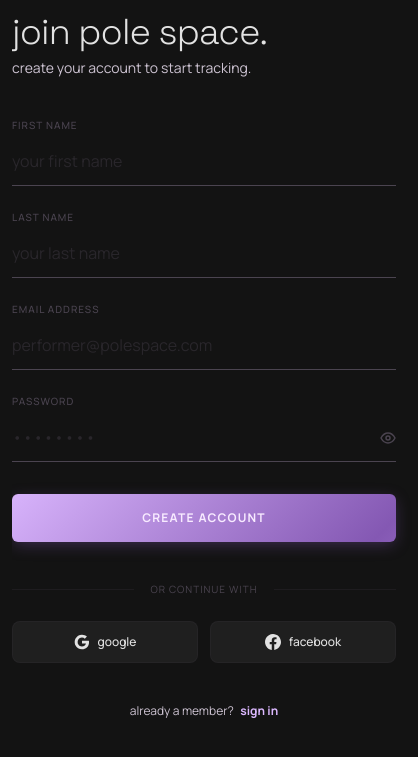
Test: SignupForm › shows validation error for short password on submit
This screenshot has width=418, height=757.
In the field labelled "first name": (204, 162) [12, 137, 396, 186], type "Alice"
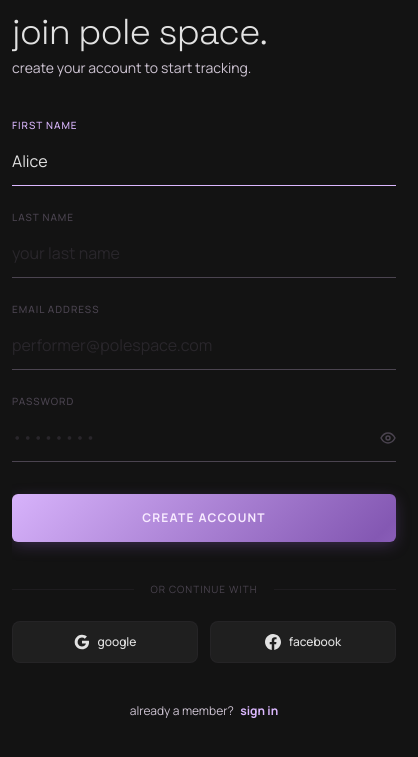
In the field labelled "last name": (204, 254) [12, 229, 396, 278], type "Smith"
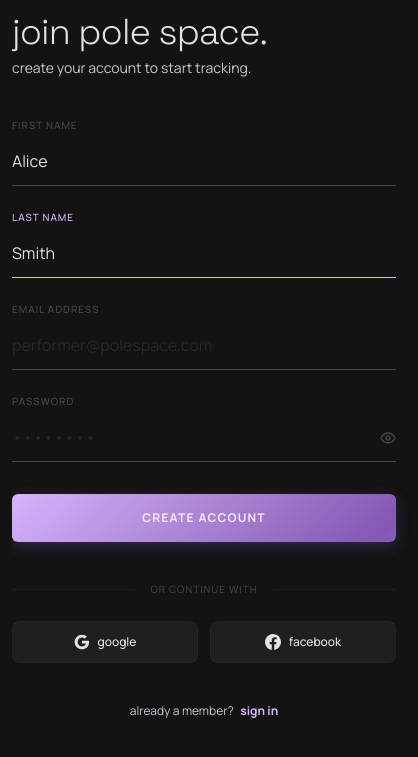
In the field labelled "email address": (204, 346) [12, 321, 396, 370], type "a@b.com"
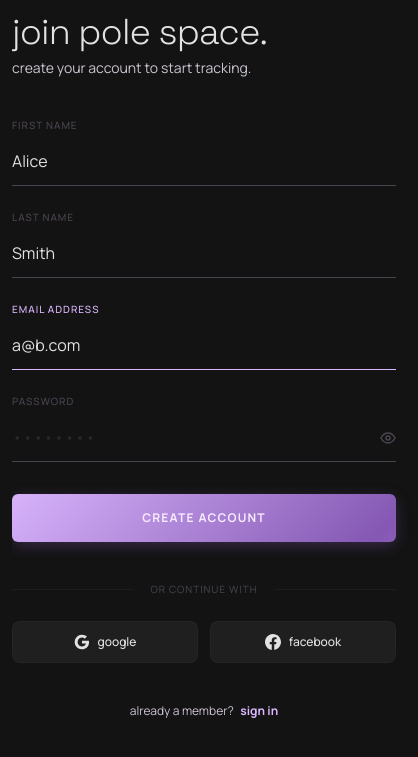
In the password field with placeholder "••••••••": (204, 438) [12, 413, 396, 462], type "Ab1!"
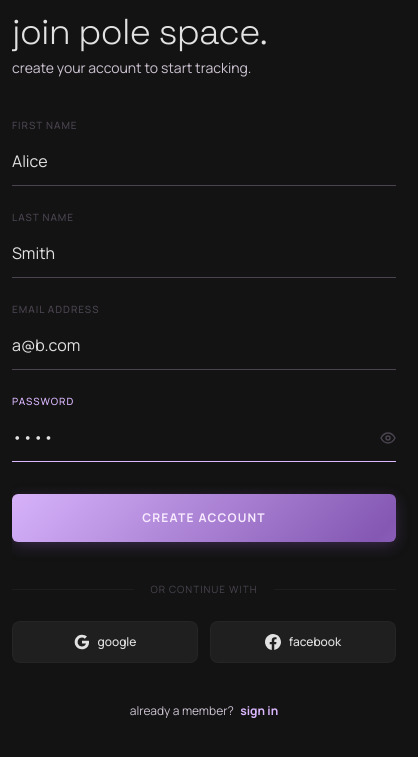
Click the button "create account": (204, 518) [12, 494, 396, 542]
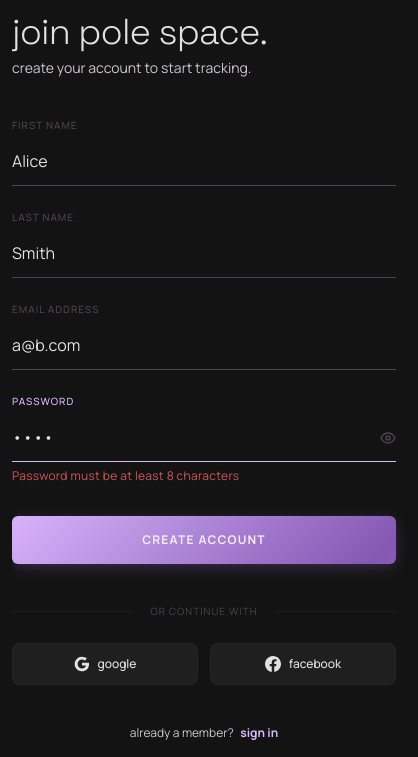
Check: the text "Password must be at least 8 characters" is shown, box [12, 467, 239, 484]
